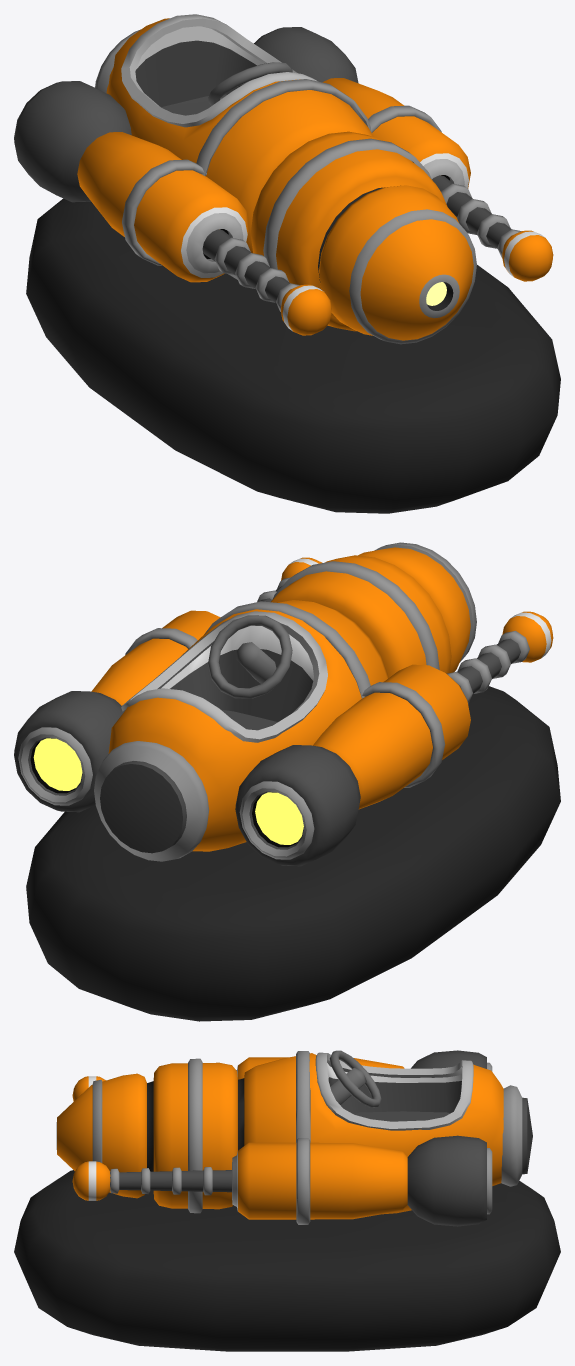
The model's file is mesh_Car_InGame_J.fbx.
3 views of the same model, one above another, from view 1: azimuth 30°, elevation 25°; view 2: azimuth 150°, elevation 25°; view 3: azimuth 270°, elevation 25° (orthographic). The views are drawn at different scales.
Parts seen in each view (by area): view 1: mesh_Car_InGame_J; view 2: mesh_Car_InGame_J; view 3: mesh_Car_InGame_J.
Part boxes in pixels (x1,y1,x2,y2): mesh_Car_InGame_J: (14, 14, 560, 513); mesh_Car_InGame_J: (14, 542, 560, 1021); mesh_Car_InGame_J: (14, 1050, 560, 1351).
Bounding box in the file's own units: 1.77 × 1.5 × 2.97.
